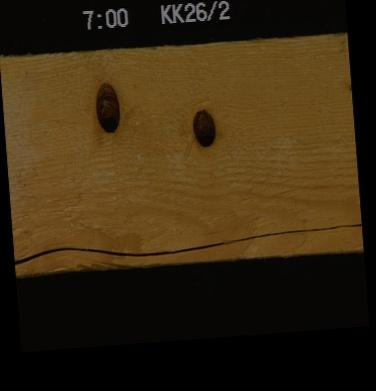split: (13, 229, 362, 256)
